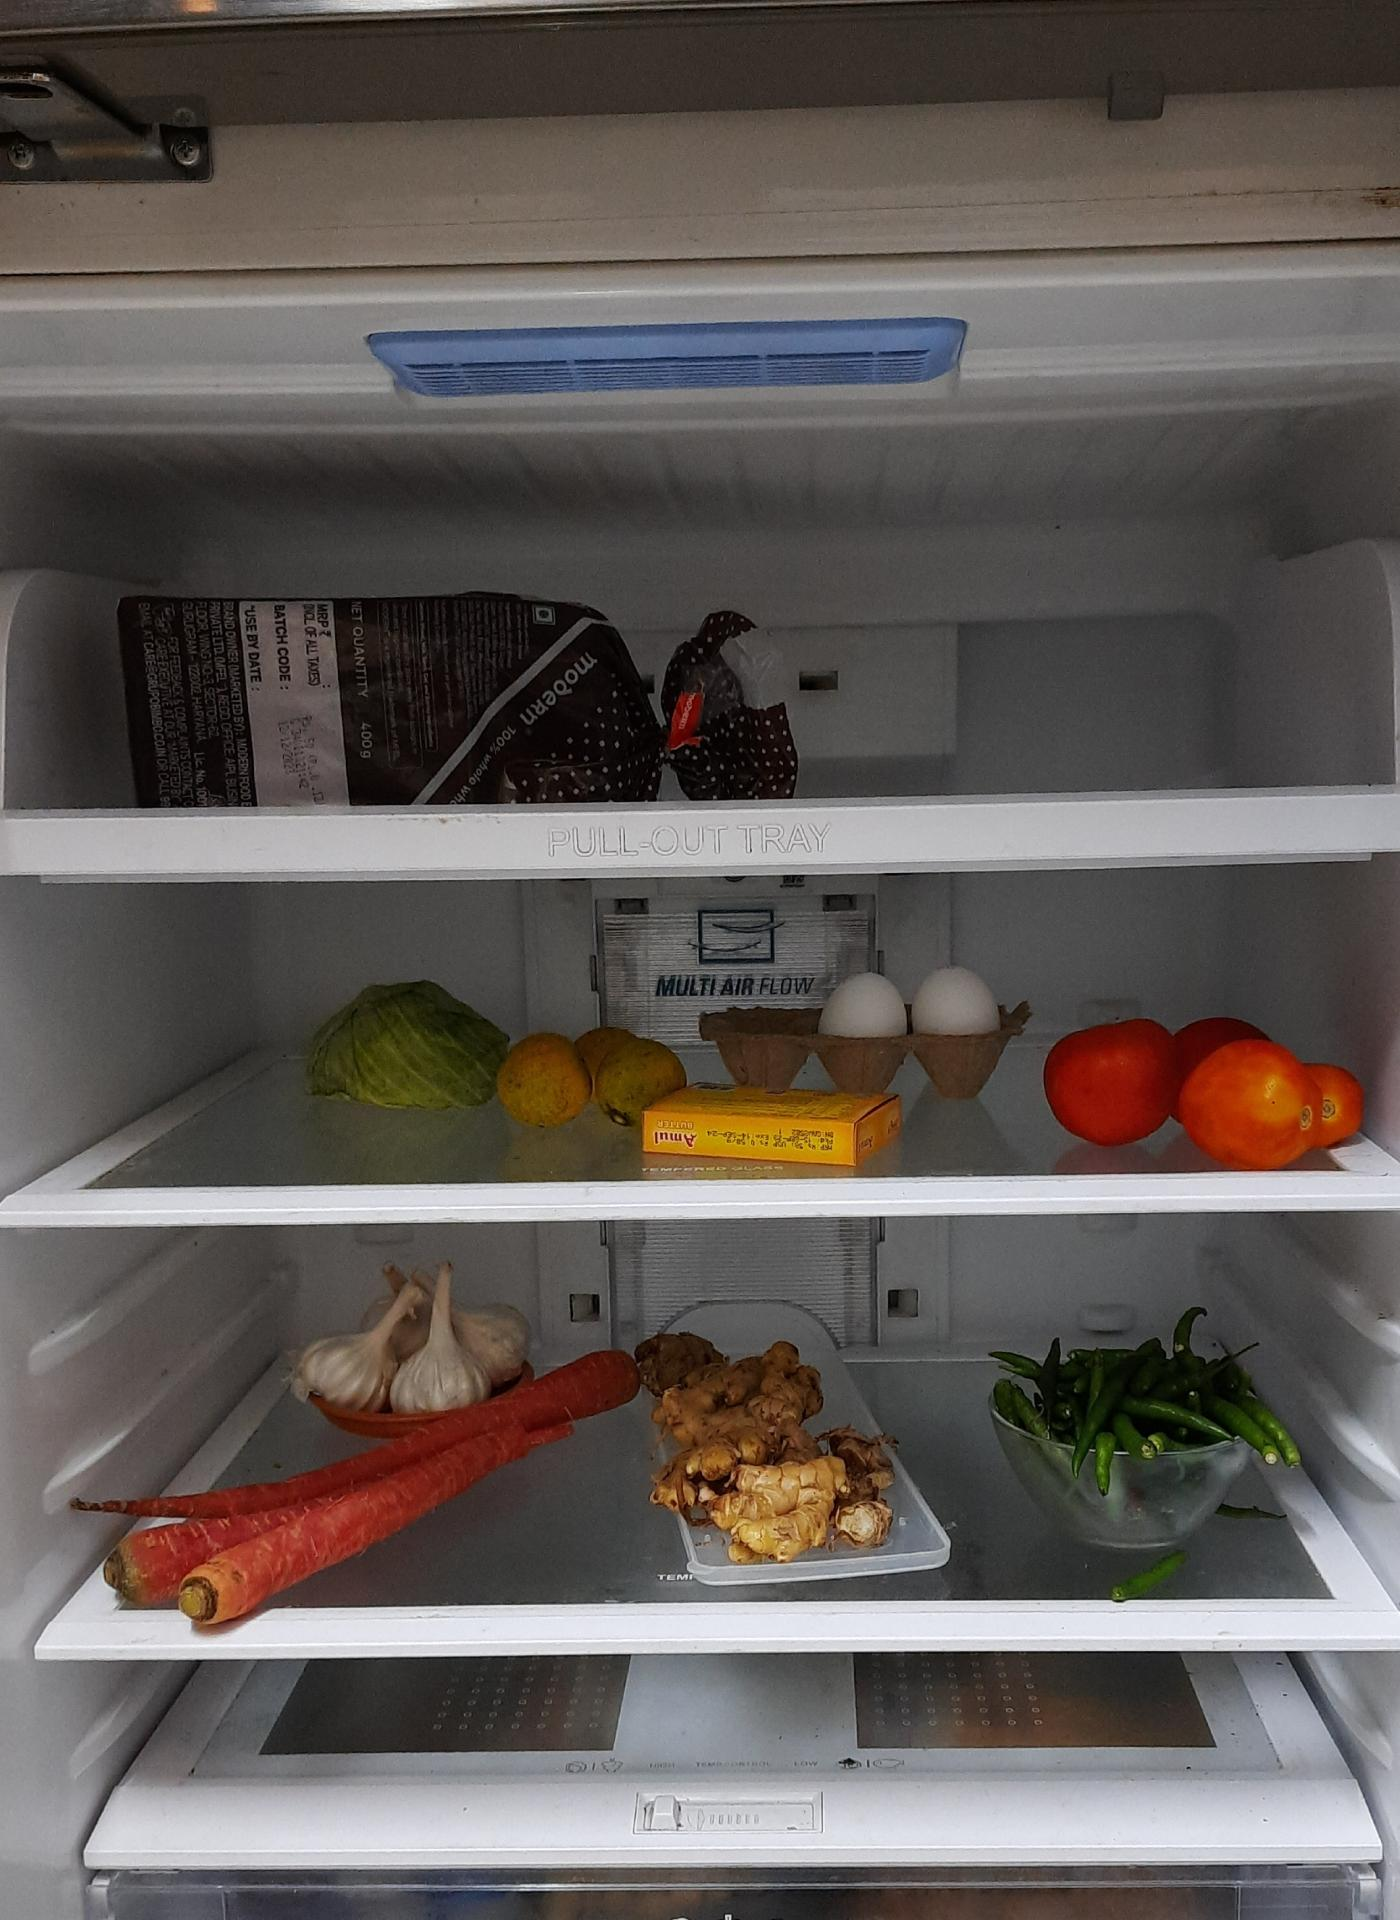bread: (131, 578, 805, 796)
butter: (637, 1087, 904, 1163)
cabbage: (298, 973, 513, 1124)
carrots: (86, 1407, 665, 1622)
chillies: (991, 1331, 1287, 1501)
egg: (822, 964, 1015, 1036)
garlic: (309, 1251, 538, 1407)
ginger: (663, 1324, 909, 1541)
lemon: (489, 1012, 692, 1127)
tomato: (1050, 1017, 1376, 1161)
